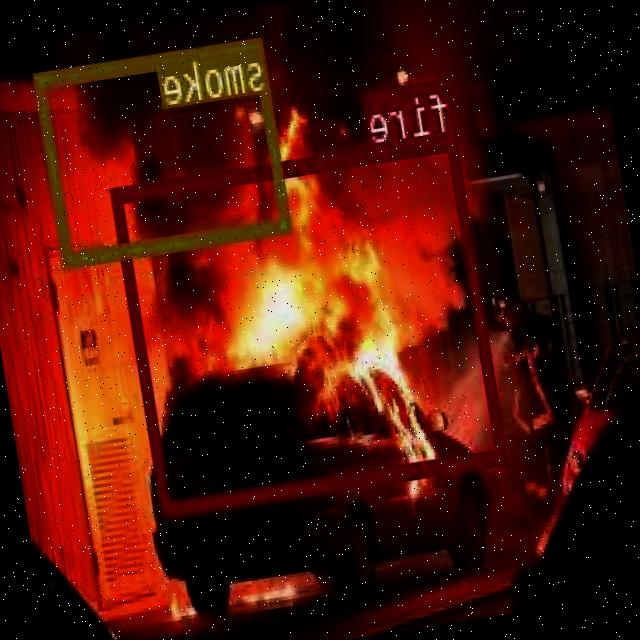fire: (113, 133, 510, 516)
smoke: (35, 35, 295, 265)
